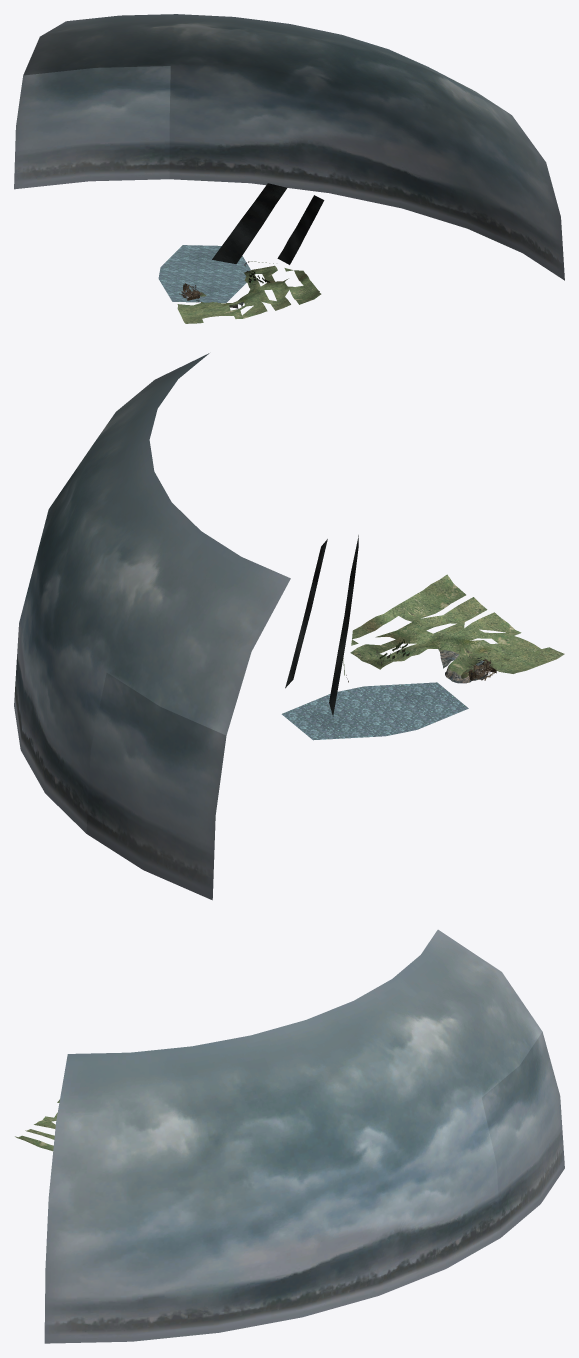
The model's file is stage_m012.glb.
3 renders of one model, top to bottom at view 1: azimuth 30°, elevation 25°; view 2: azimuth 150°, elevation 25°; view 3: azimuth 270°, elevation 25°, orthographic. The views are drawn at different scales.
Visible parts, largest first — view 1: g1p00, g1p19, g1p22, g1p01, g0p77, g1p31; view 2: g1p00, g1p19, g0p77, g1p22, g1p01, g1p31; view 3: g1p00, g1p19, g0p77.
Part boxes in pixels (left/top/right/bottom): g1p00: left=23, top=14, right=564, bottom=280; g1p19: left=14, top=66, right=170, bottom=189; g1p22: left=158, top=245, right=250, bottom=302; g1p01: left=212, top=183, right=324, bottom=264; g0p77: left=185, top=265, right=313, bottom=323; g1p31: left=177, top=270, right=321, bottom=323; g1p00: left=14, top=353, right=290, bottom=833; g1p19: left=86, top=673, right=226, bottom=900; g0p77: left=350, top=583, right=555, bottom=674; g1p22: left=281, top=682, right=468, bottom=740; g1p01: left=285, top=535, right=358, bottom=716; g1p31: left=352, top=574, right=564, bottom=673; g1p00: left=44, top=929, right=542, bottom=1343; g1p19: left=482, top=1032, right=564, bottom=1237; g0p77: left=18, top=1099, right=59, bottom=1150.
Bounding box in the file's own units: 1057 × 574 × 1210.
Materials: 58 (58 with a texture image).
